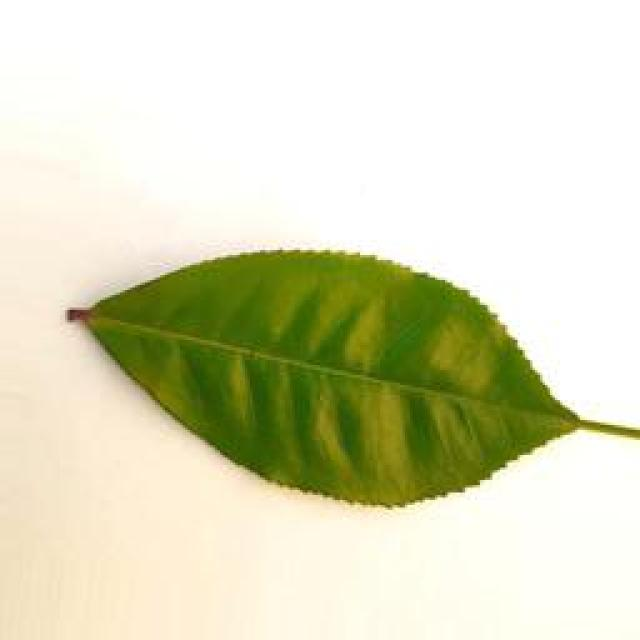Healthy: (68, 237, 573, 510)
